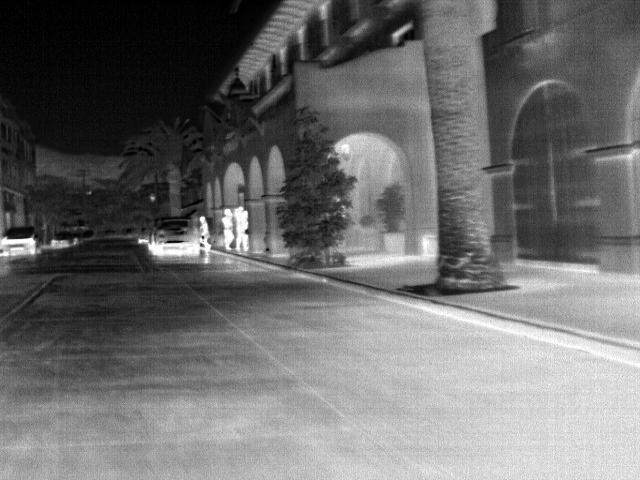car: (150, 215, 196, 256), (0, 225, 45, 256), (48, 233, 77, 251), (137, 226, 152, 246)
person: (195, 212, 212, 260), (233, 204, 249, 250), (220, 209, 233, 249)
